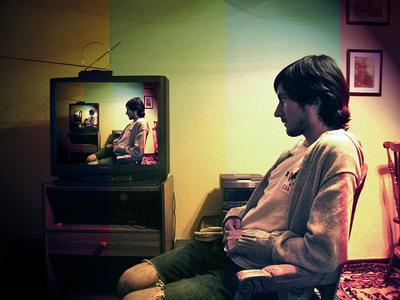person: (116, 54, 363, 300)
